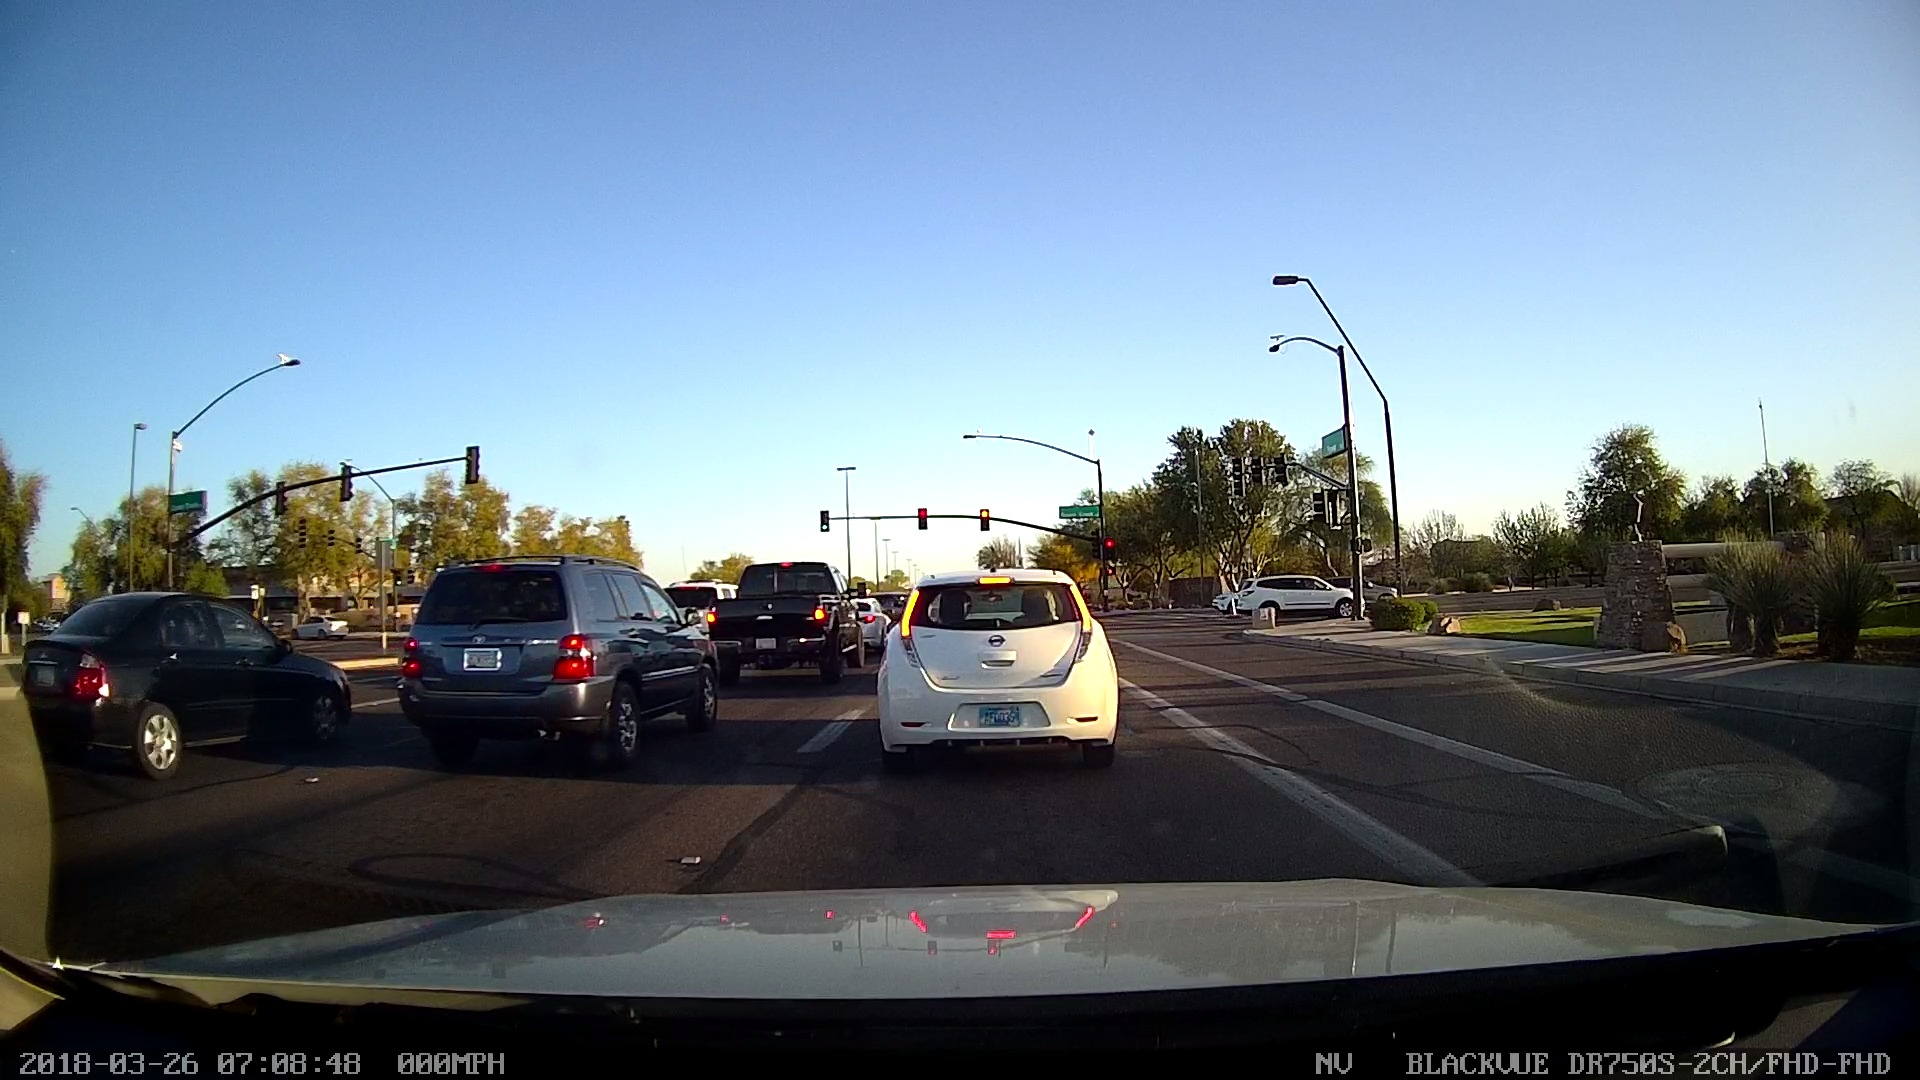vehicle: (363, 547, 733, 803), (0, 568, 365, 785), (861, 560, 1134, 771), (688, 554, 866, 700), (1224, 570, 1374, 626), (952, 690, 1043, 738)
